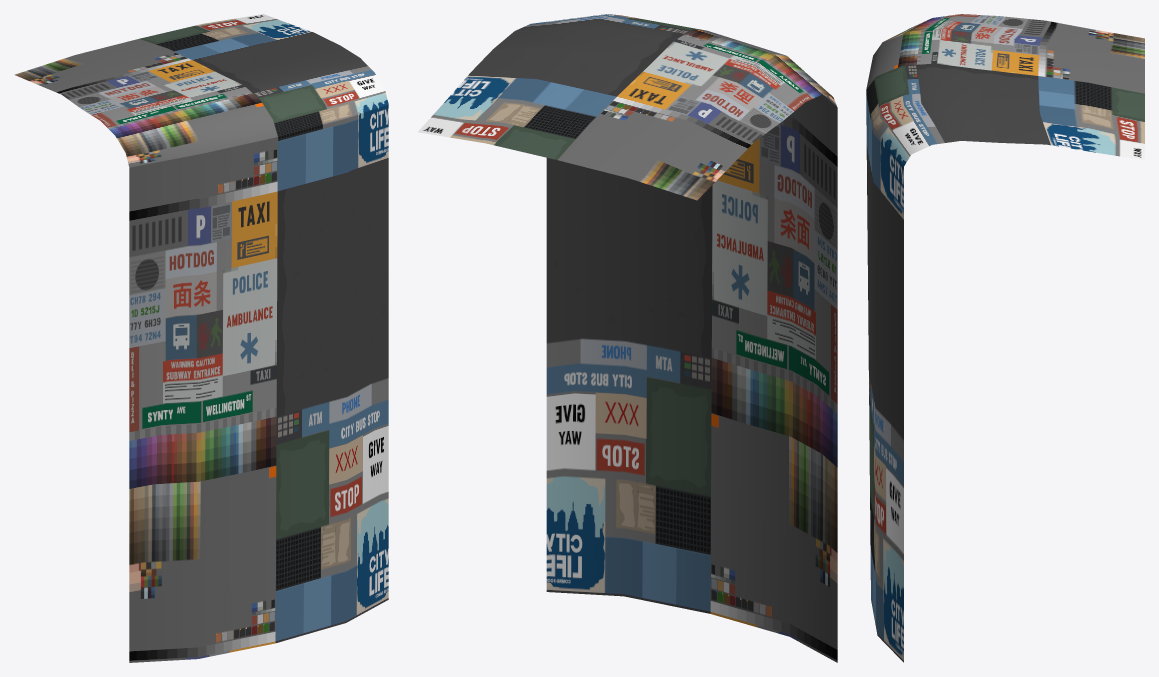
File: SM_Gen_Env_Waterfall_01.glb
3 renders of one model, left to right at view 1: azimuth 30°, elevation 25°; view 2: azimuth 150°, elevation 25°; view 3: azimuth 270°, elevation 25°, orthographic. The views are drawn at different scales.
Parts seen in each view (by area): view 1: SM_Gen_Env_Waterfall_01; view 2: SM_Gen_Env_Waterfall_01; view 3: SM_Gen_Env_Waterfall_01.
Part boxes in pixels (bbox=[...]): SM_Gen_Env_Waterfall_01: bbox=[14, 14, 388, 662]; SM_Gen_Env_Waterfall_01: bbox=[418, 14, 837, 662]; SM_Gen_Env_Waterfall_01: bbox=[866, 14, 1144, 662].
Bounding box in the file's own units: 5.29 × 10.42 × 4.91.
Materials: 1 (1 with a texture image).
